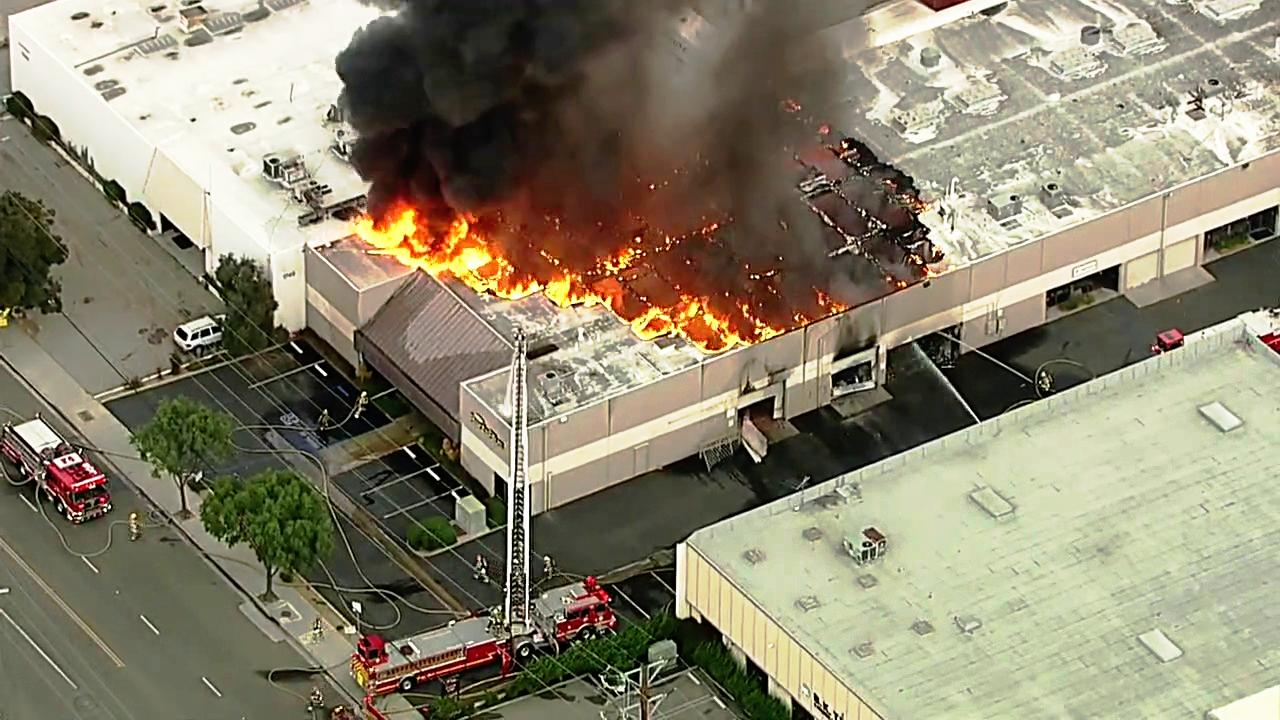fire: (357, 215, 479, 278)
smoke: (555, 0, 832, 235), (345, 0, 545, 222)
